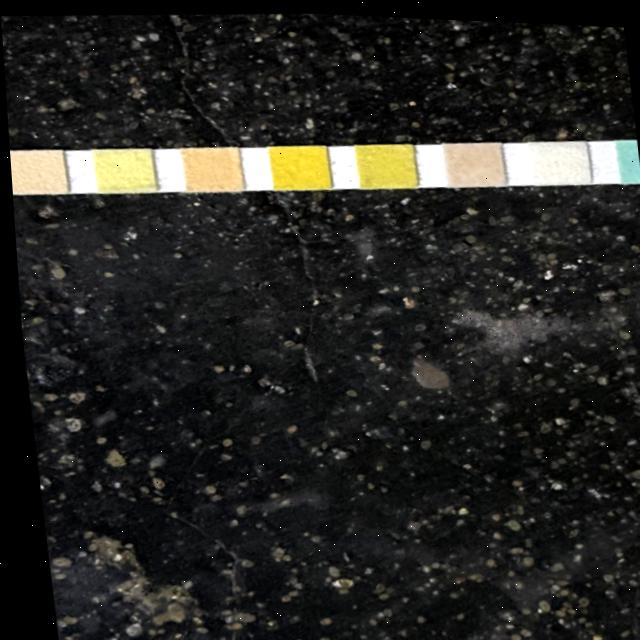Bilirubin: (531, 135, 587, 180)
Blood: (270, 143, 326, 188)
Glucose: (617, 135, 640, 177)
Ketone: (443, 137, 500, 182)
Protein: (95, 147, 151, 192)
SpGravity: (358, 140, 414, 185)
Urobilinogen: (8, 149, 61, 194)
pH: (182, 145, 239, 190)
